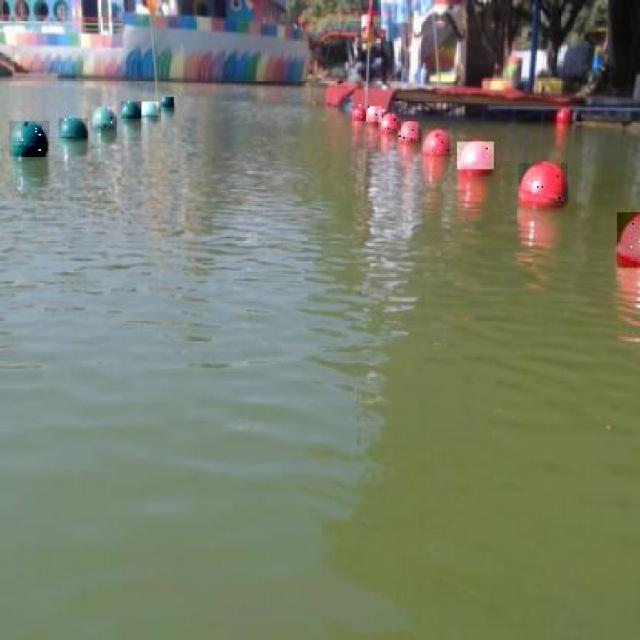green_ball: (10, 119, 48, 157), (58, 118, 88, 138), (92, 106, 117, 126), (120, 100, 140, 118), (142, 100, 158, 117), (160, 96, 174, 107)
red_ball: (520, 162, 567, 208), (616, 213, 640, 267), (459, 141, 493, 171), (423, 128, 450, 155), (398, 122, 420, 144), (381, 113, 398, 133), (367, 107, 383, 122), (351, 106, 365, 122)
